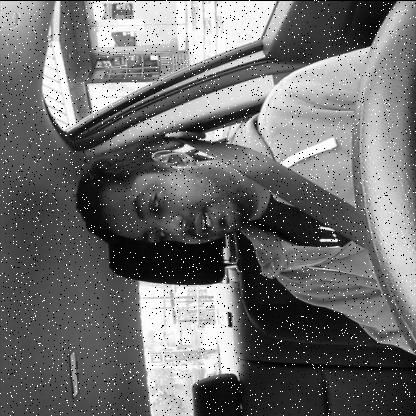seatbelt: (74, 138, 356, 262)
